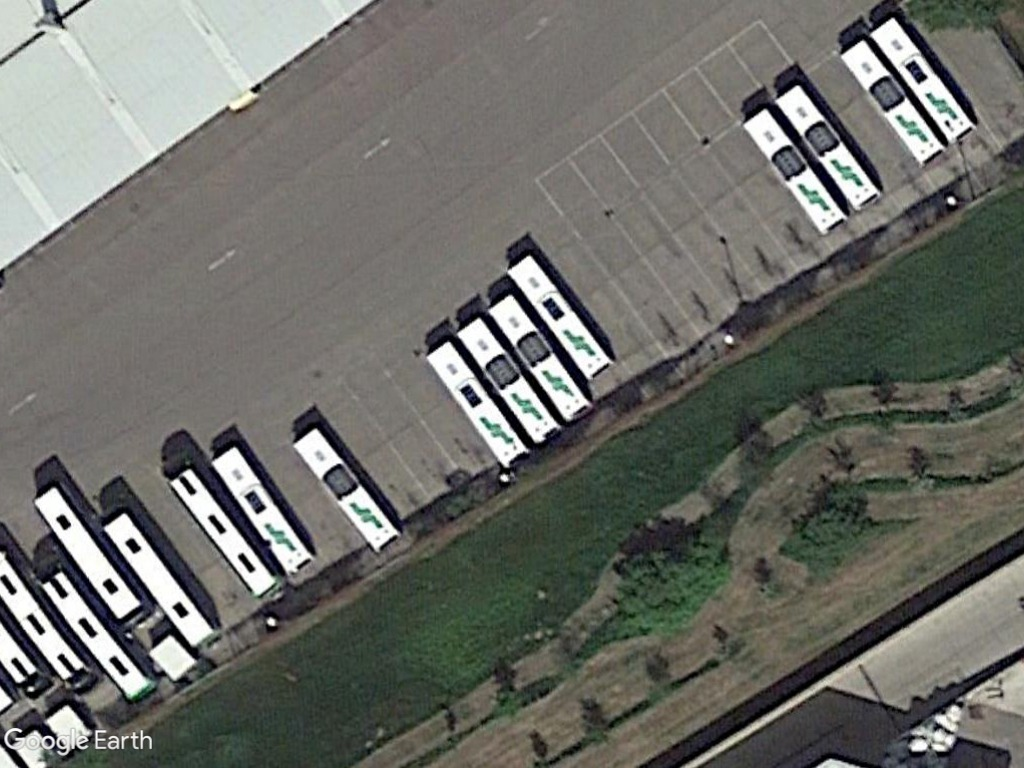bus: (27, 480, 145, 627), (103, 508, 219, 654), (164, 459, 281, 601), (421, 335, 534, 477), (836, 31, 950, 171), (737, 98, 848, 241), (867, 9, 980, 148), (485, 285, 593, 426), (772, 77, 881, 214), (455, 313, 564, 450), (508, 249, 616, 387), (293, 419, 401, 556), (42, 567, 150, 699), (211, 442, 313, 579)
